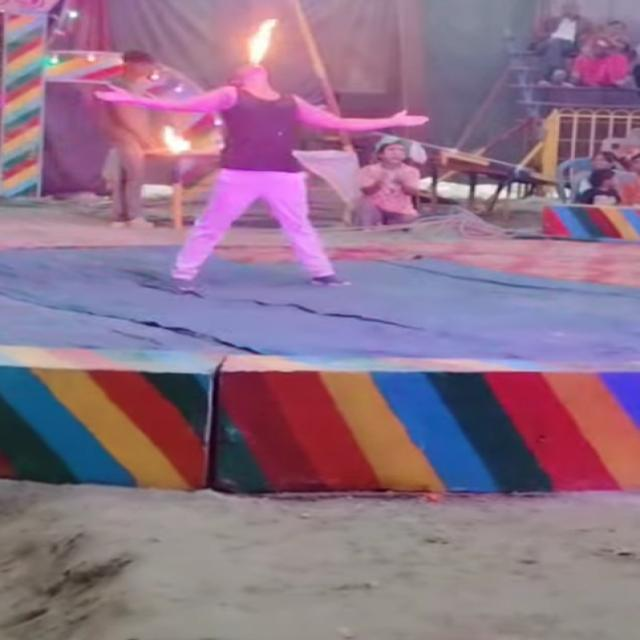fire: (248, 19, 277, 67)
